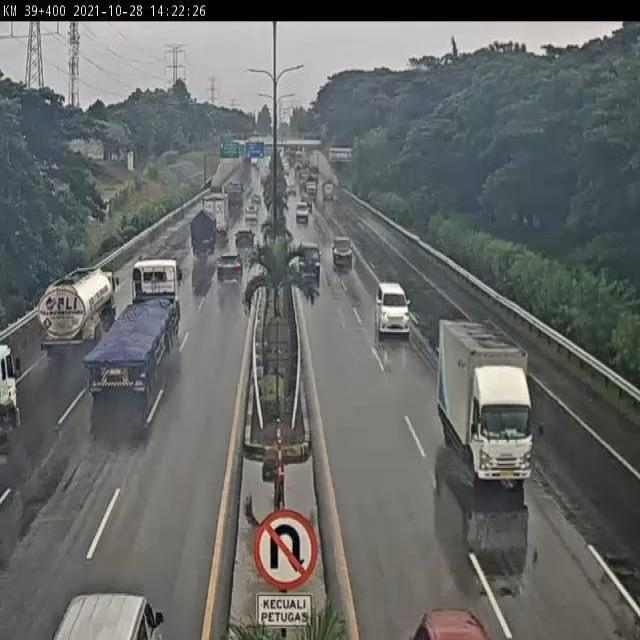big truck: (107, 266, 173, 398), (203, 189, 229, 235)
car: (407, 601, 488, 640), (369, 274, 415, 338), (329, 231, 361, 276), (297, 230, 324, 282), (214, 249, 244, 287), (240, 205, 263, 235), (234, 229, 259, 252), (290, 197, 312, 223), (247, 198, 260, 218)
small truck: (435, 313, 542, 500), (18, 275, 102, 352), (184, 207, 220, 265)
